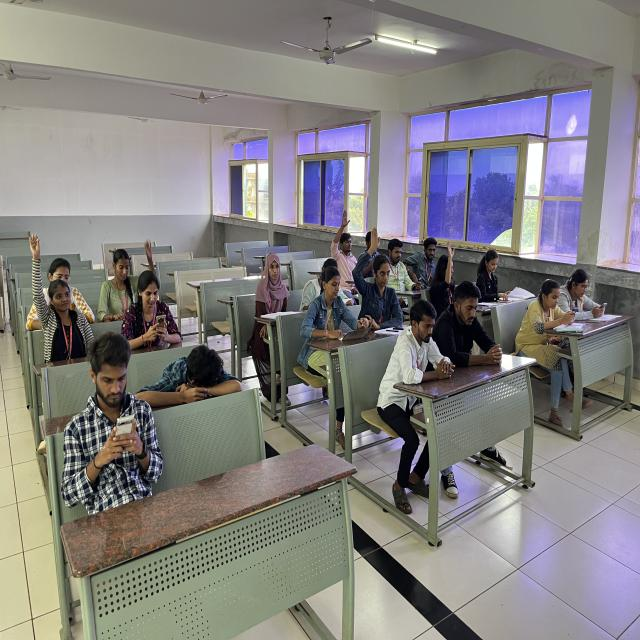Hand Rising: (8, 228, 106, 360), (355, 226, 410, 330), (321, 200, 364, 274), (425, 236, 474, 300)
Sleeping: (147, 342, 252, 418)
Using Phone: (48, 322, 173, 529), (514, 274, 580, 364), (128, 272, 194, 348)
